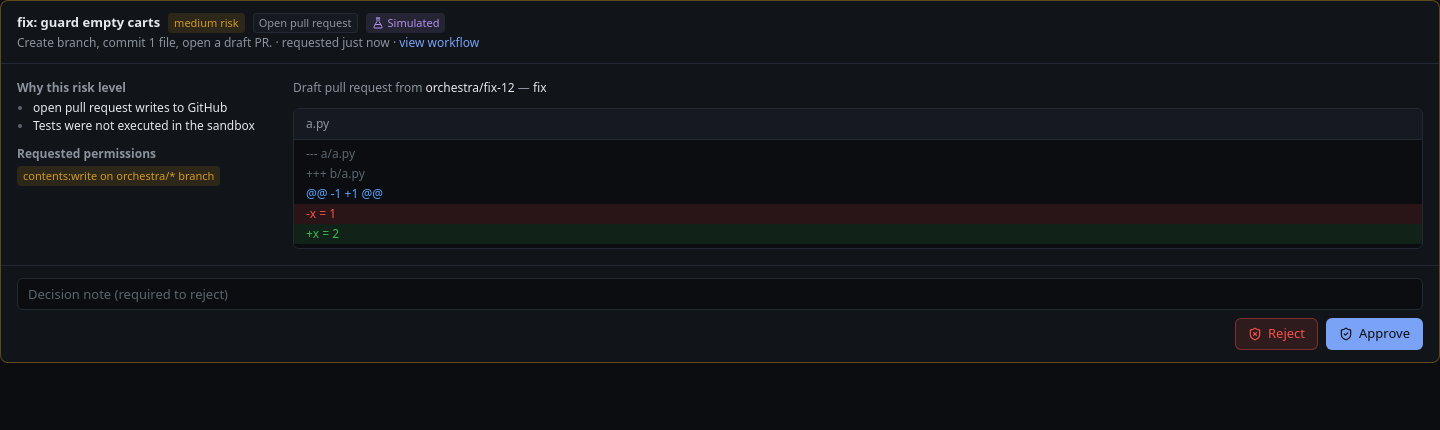
Scenario: ApprovalCard › surfaces server errors and keeps the buttons usable
Click the button "Approve": (1374, 334) [1326,318,1423,350]
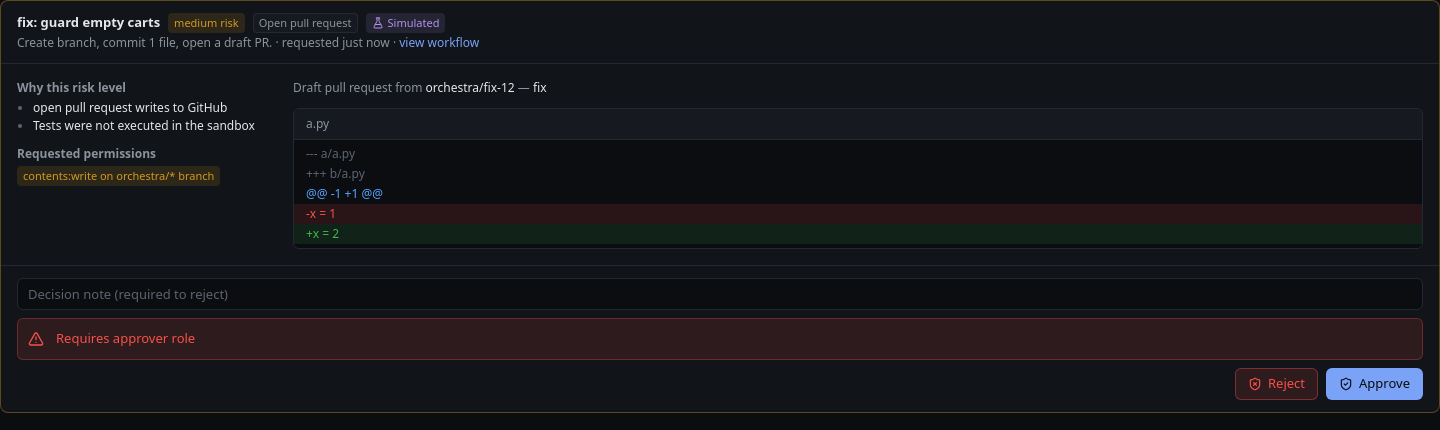
Expected: the button "Approve" is enabled, [1326,368,1423,400]
Now the message reads "Requires approver role", box [56,329,195,347]
